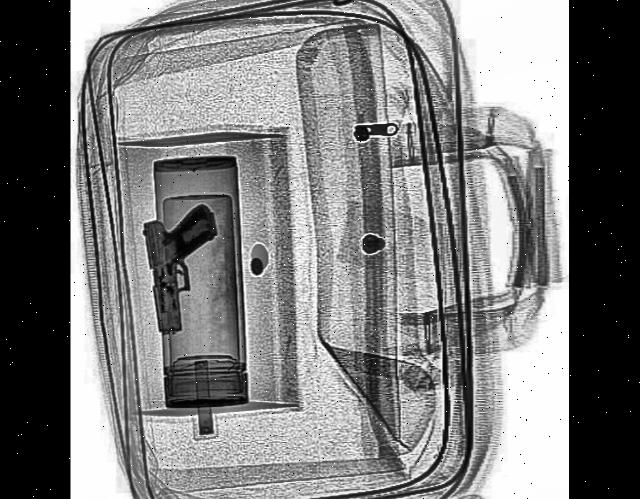Gun: (142, 202, 225, 337)
